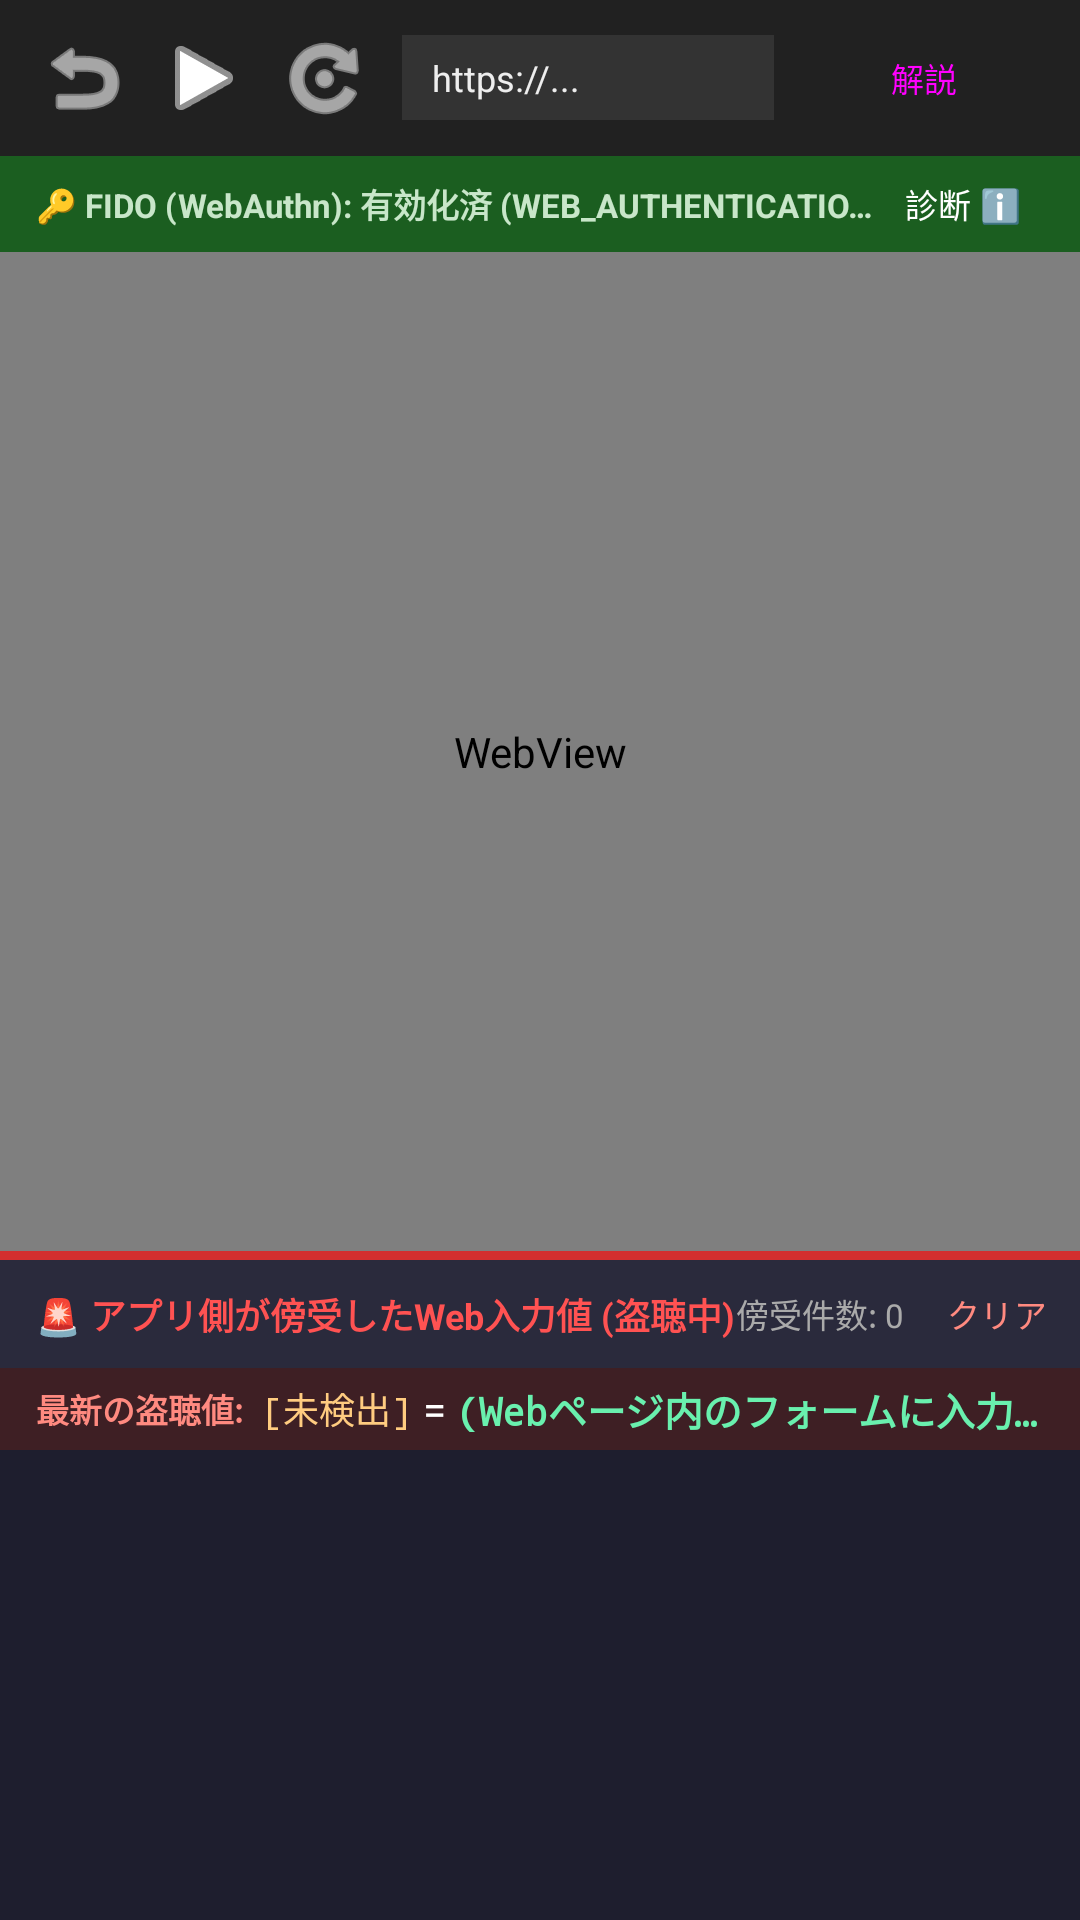

Icons on this 1080*1920 Android screen, each with its box as (left=x1, top=y1, right=x2, bottom=y2):
Back: (left=51, top=47, right=120, bottom=110)
Forward: (left=175, top=46, right=233, bottom=110)
Reload: (left=289, top=43, right=359, bottom=114)
